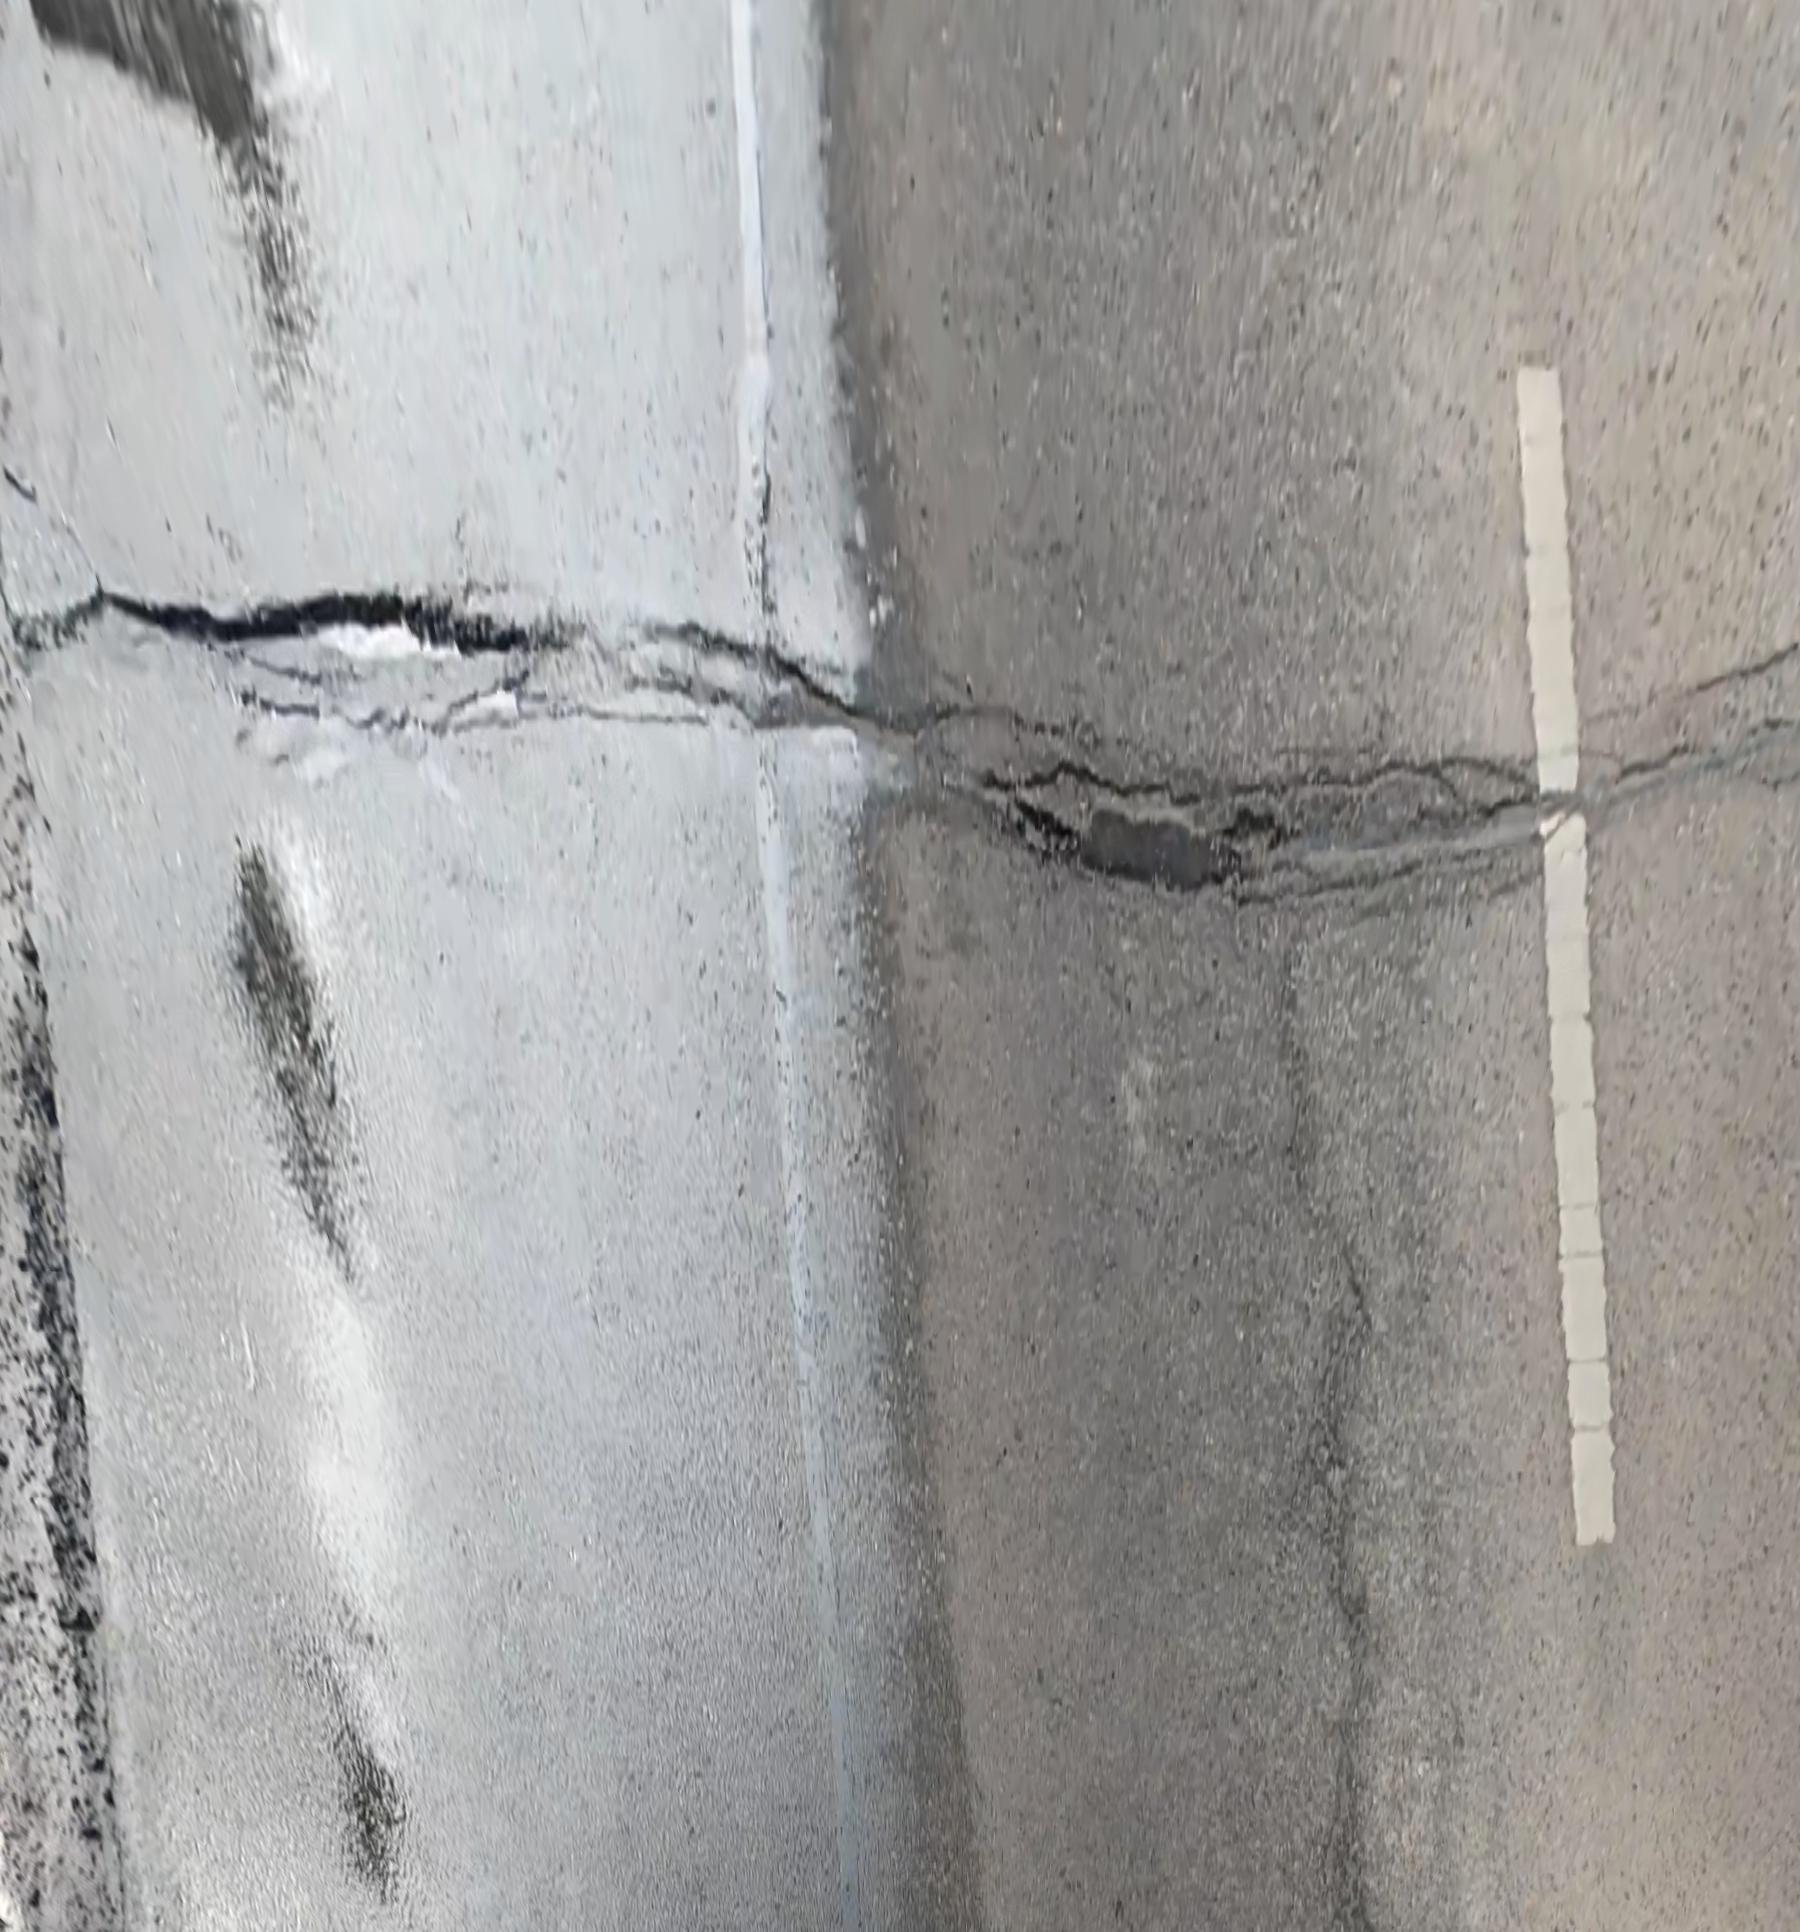pothole: (118, 592, 524, 661), (1199, 793, 1282, 863)
pothole_patch_good: (1081, 805, 1213, 888)
